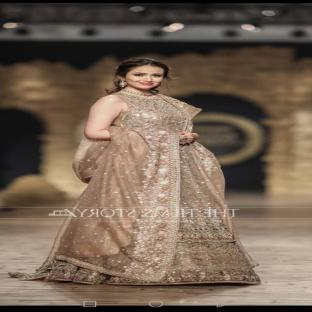Human: (9, 58, 261, 286)
